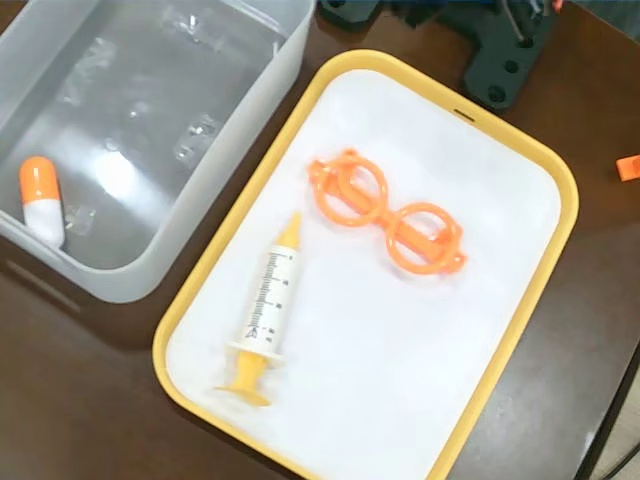pill: (18, 156, 73, 242)
syringe: (217, 208, 302, 406)
